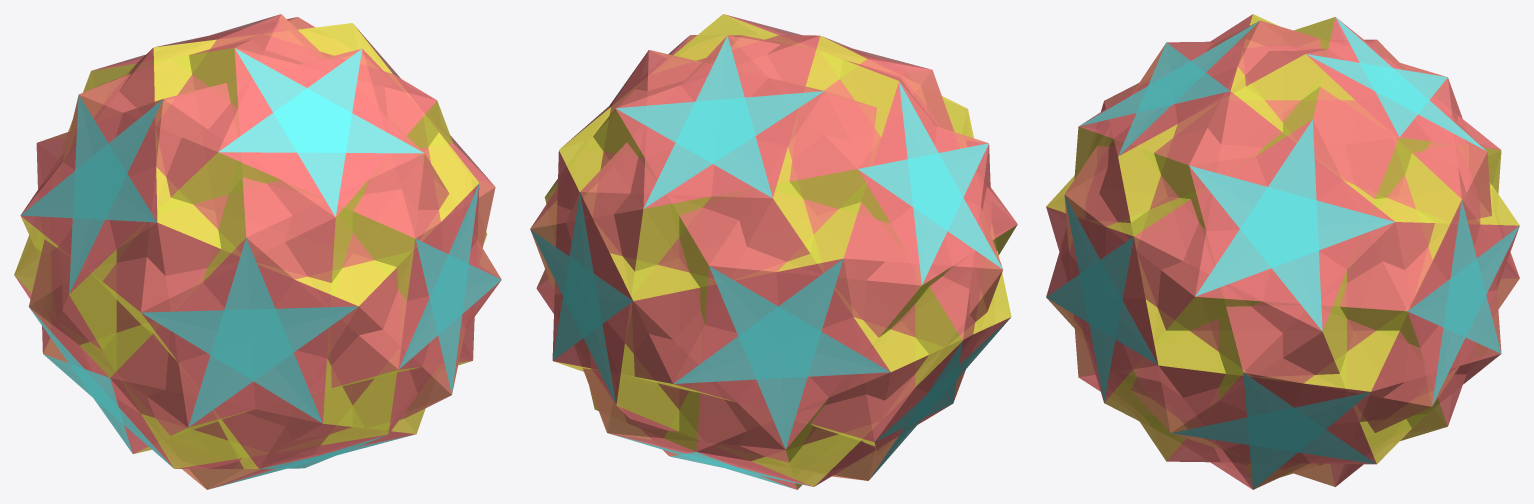
File: SnubIcosidodecadodecahedron.obj
3 views of the same model, side by side, from view 1: azimuth 30°, elevation 25°; view 2: azimuth 150°, elevation 25°; view 3: azimuth 270°, elevation 25° (orthographic).
Bounding box in the file's own units: 2.21 × 2.21 × 2.21.
